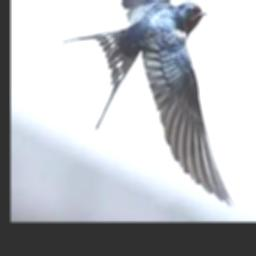Swallow: (63, 0, 235, 208)
